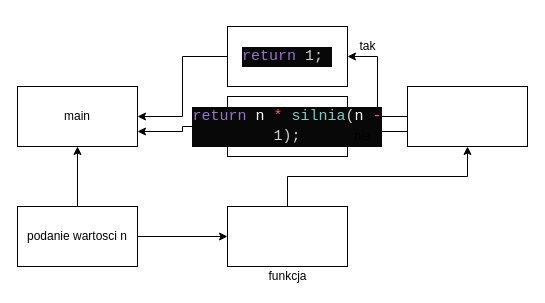
The diagram is 545 pixels wide and 303 high, and some of its shapes have lost their labels. Here are the shapes that lost their labels. From the top down, the centre of each, then its label:
point (467, 116): jezeli n < 1
point (287, 236): silnia
